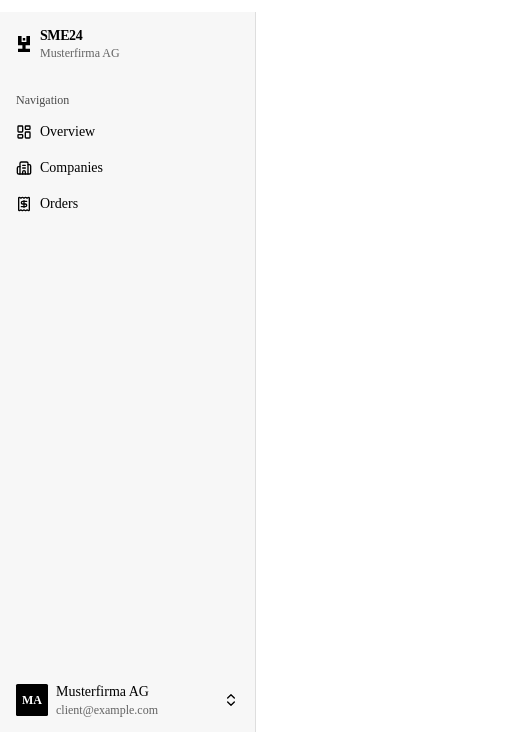
it: AppSidebar, the client area › shows the full name in the dropdown header when set, with the whole address beneath it
Click the button with aria-label "User menu". click: (128, 700)
box: [8,676,247,724]
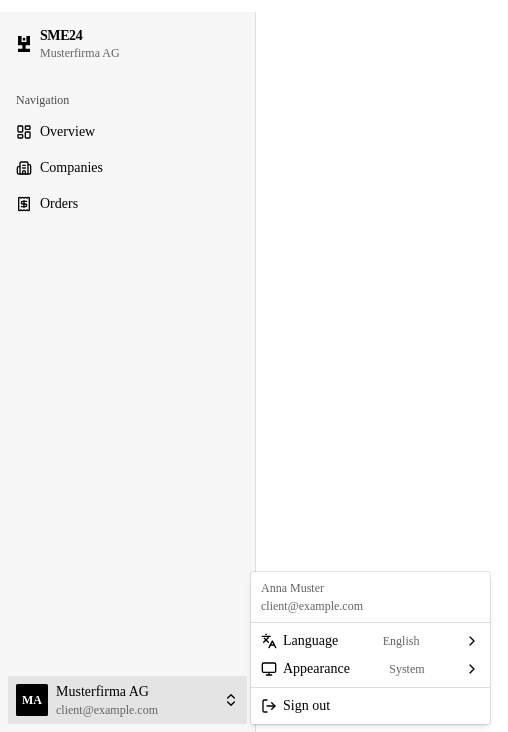
Expected: the menu does not show "Client company", [251,572,490,724]
Expected: the menu shows "Anna Muster", [261,581,324,595]
Expected: the menu shows "client@example.com", [261,599,363,613]
